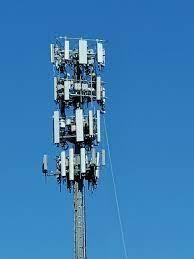antenna: (53, 110, 66, 146), (71, 106, 84, 142), (77, 36, 89, 66), (86, 108, 94, 140), (68, 147, 75, 181), (63, 37, 73, 59), (62, 77, 70, 104), (51, 75, 59, 102), (59, 151, 67, 177), (96, 75, 104, 99), (95, 43, 104, 64), (97, 109, 102, 143), (48, 44, 56, 63), (42, 151, 49, 171), (101, 149, 108, 167), (82, 147, 86, 177), (96, 152, 101, 171)
